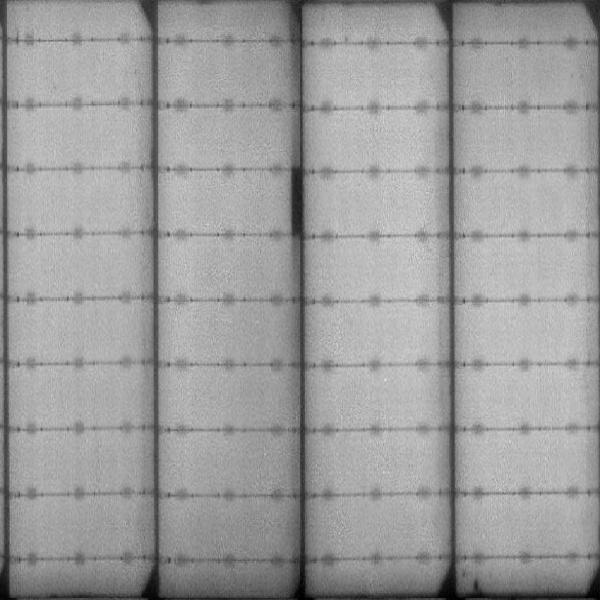black_border: (284, 159, 306, 242)
